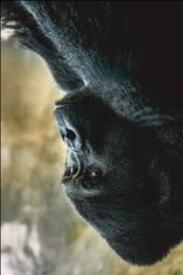gorille_Autres: (0, 0, 183, 270)
